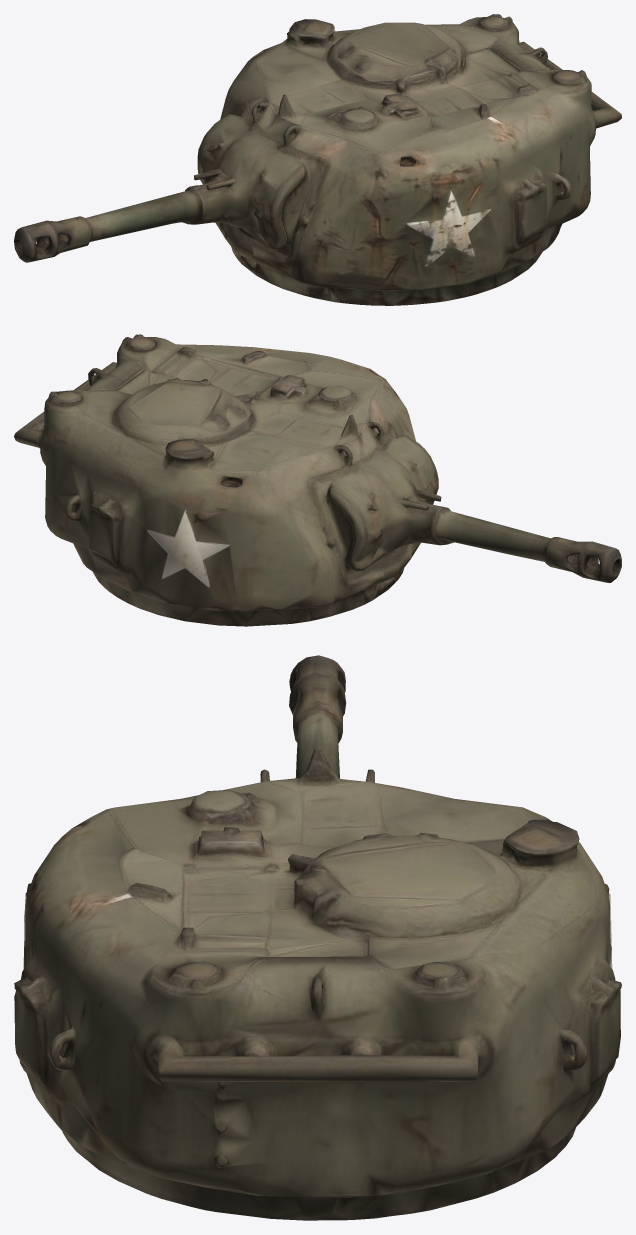
The model's file is tank-sherman-turret.glb.
3 views of the same model, one above another, from view 1: azimuth 30°, elevation 25°; view 2: azimuth 150°, elevation 25°; view 3: azimuth 270°, elevation 25° (orthographic). The views are drawn at different scales.
Visible parts, largest first — view 1: Mesh_0; view 2: Mesh_0; view 3: Mesh_0.
Part boxes in pixels (left/top/right/bottom): Mesh_0: left=14, top=14, right=621, bottom=305; Mesh_0: left=14, top=334, right=621, bottom=626; Mesh_0: left=14, top=655, right=621, bottom=1220.
Bounding box in the file's own units: 1.9 × 0.554 × 1.09.
1 material, 1 textured.
